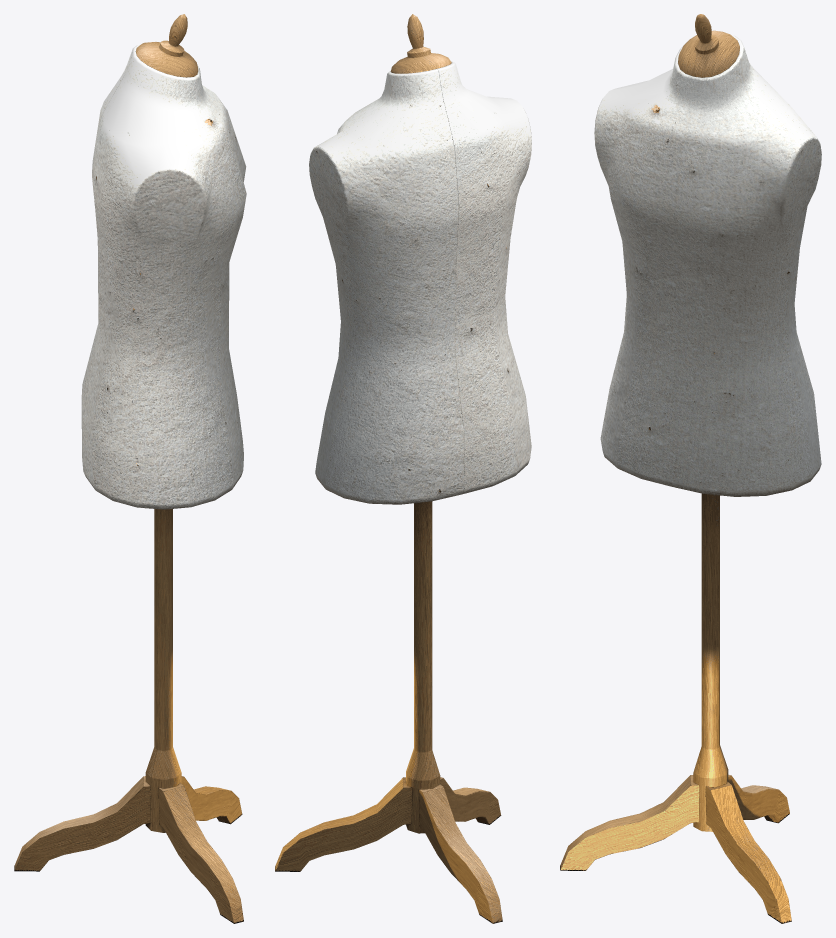
The model's file is Mannequin3 (2.43313 , 0.772722, 0.3).glb.
3 renders of one model, left to right at view 1: azimuth 30°, elevation 25°; view 2: azimuth 150°, elevation 25°; view 3: azimuth 270°, elevation 25°, orthographic.
Parts seen in each view (by area): view 1: DressMannequin.008; view 2: DressMannequin.008; view 3: DressMannequin.008.
Part boxes in pixels (x1,y1,x2,y2): DressMannequin.008: [14, 14, 246, 923]; DressMannequin.008: [275, 14, 531, 923]; DressMannequin.008: [560, 14, 821, 923].
Size of the model in its own units: 0.5204 by 1.86 by 0.5109.
Materials: 1 (1 with a texture image).
